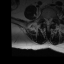CCS_normal: (47, 16, 49, 27)
LFS_normal: (51, 15, 53, 22)
LLS_normal: (49, 15, 51, 25)
RFS_stenosis: (42, 14, 44, 22)
RLS_normal: (44, 15, 47, 25)
